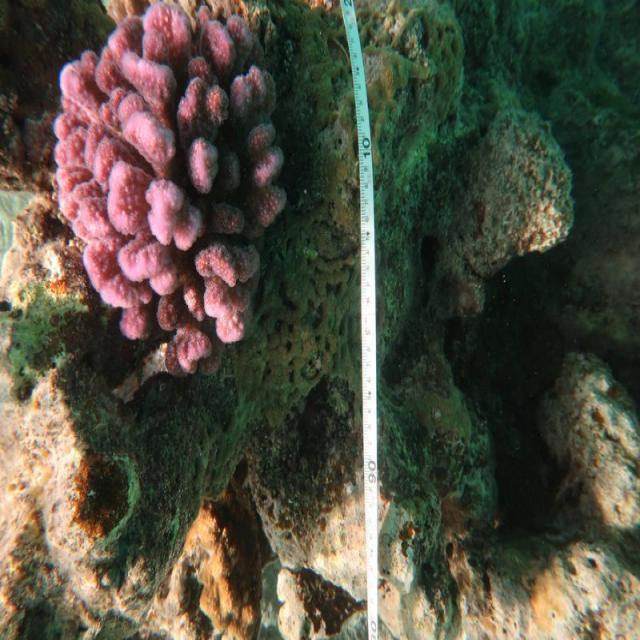Healthy Coral: (53, 0, 306, 375)
